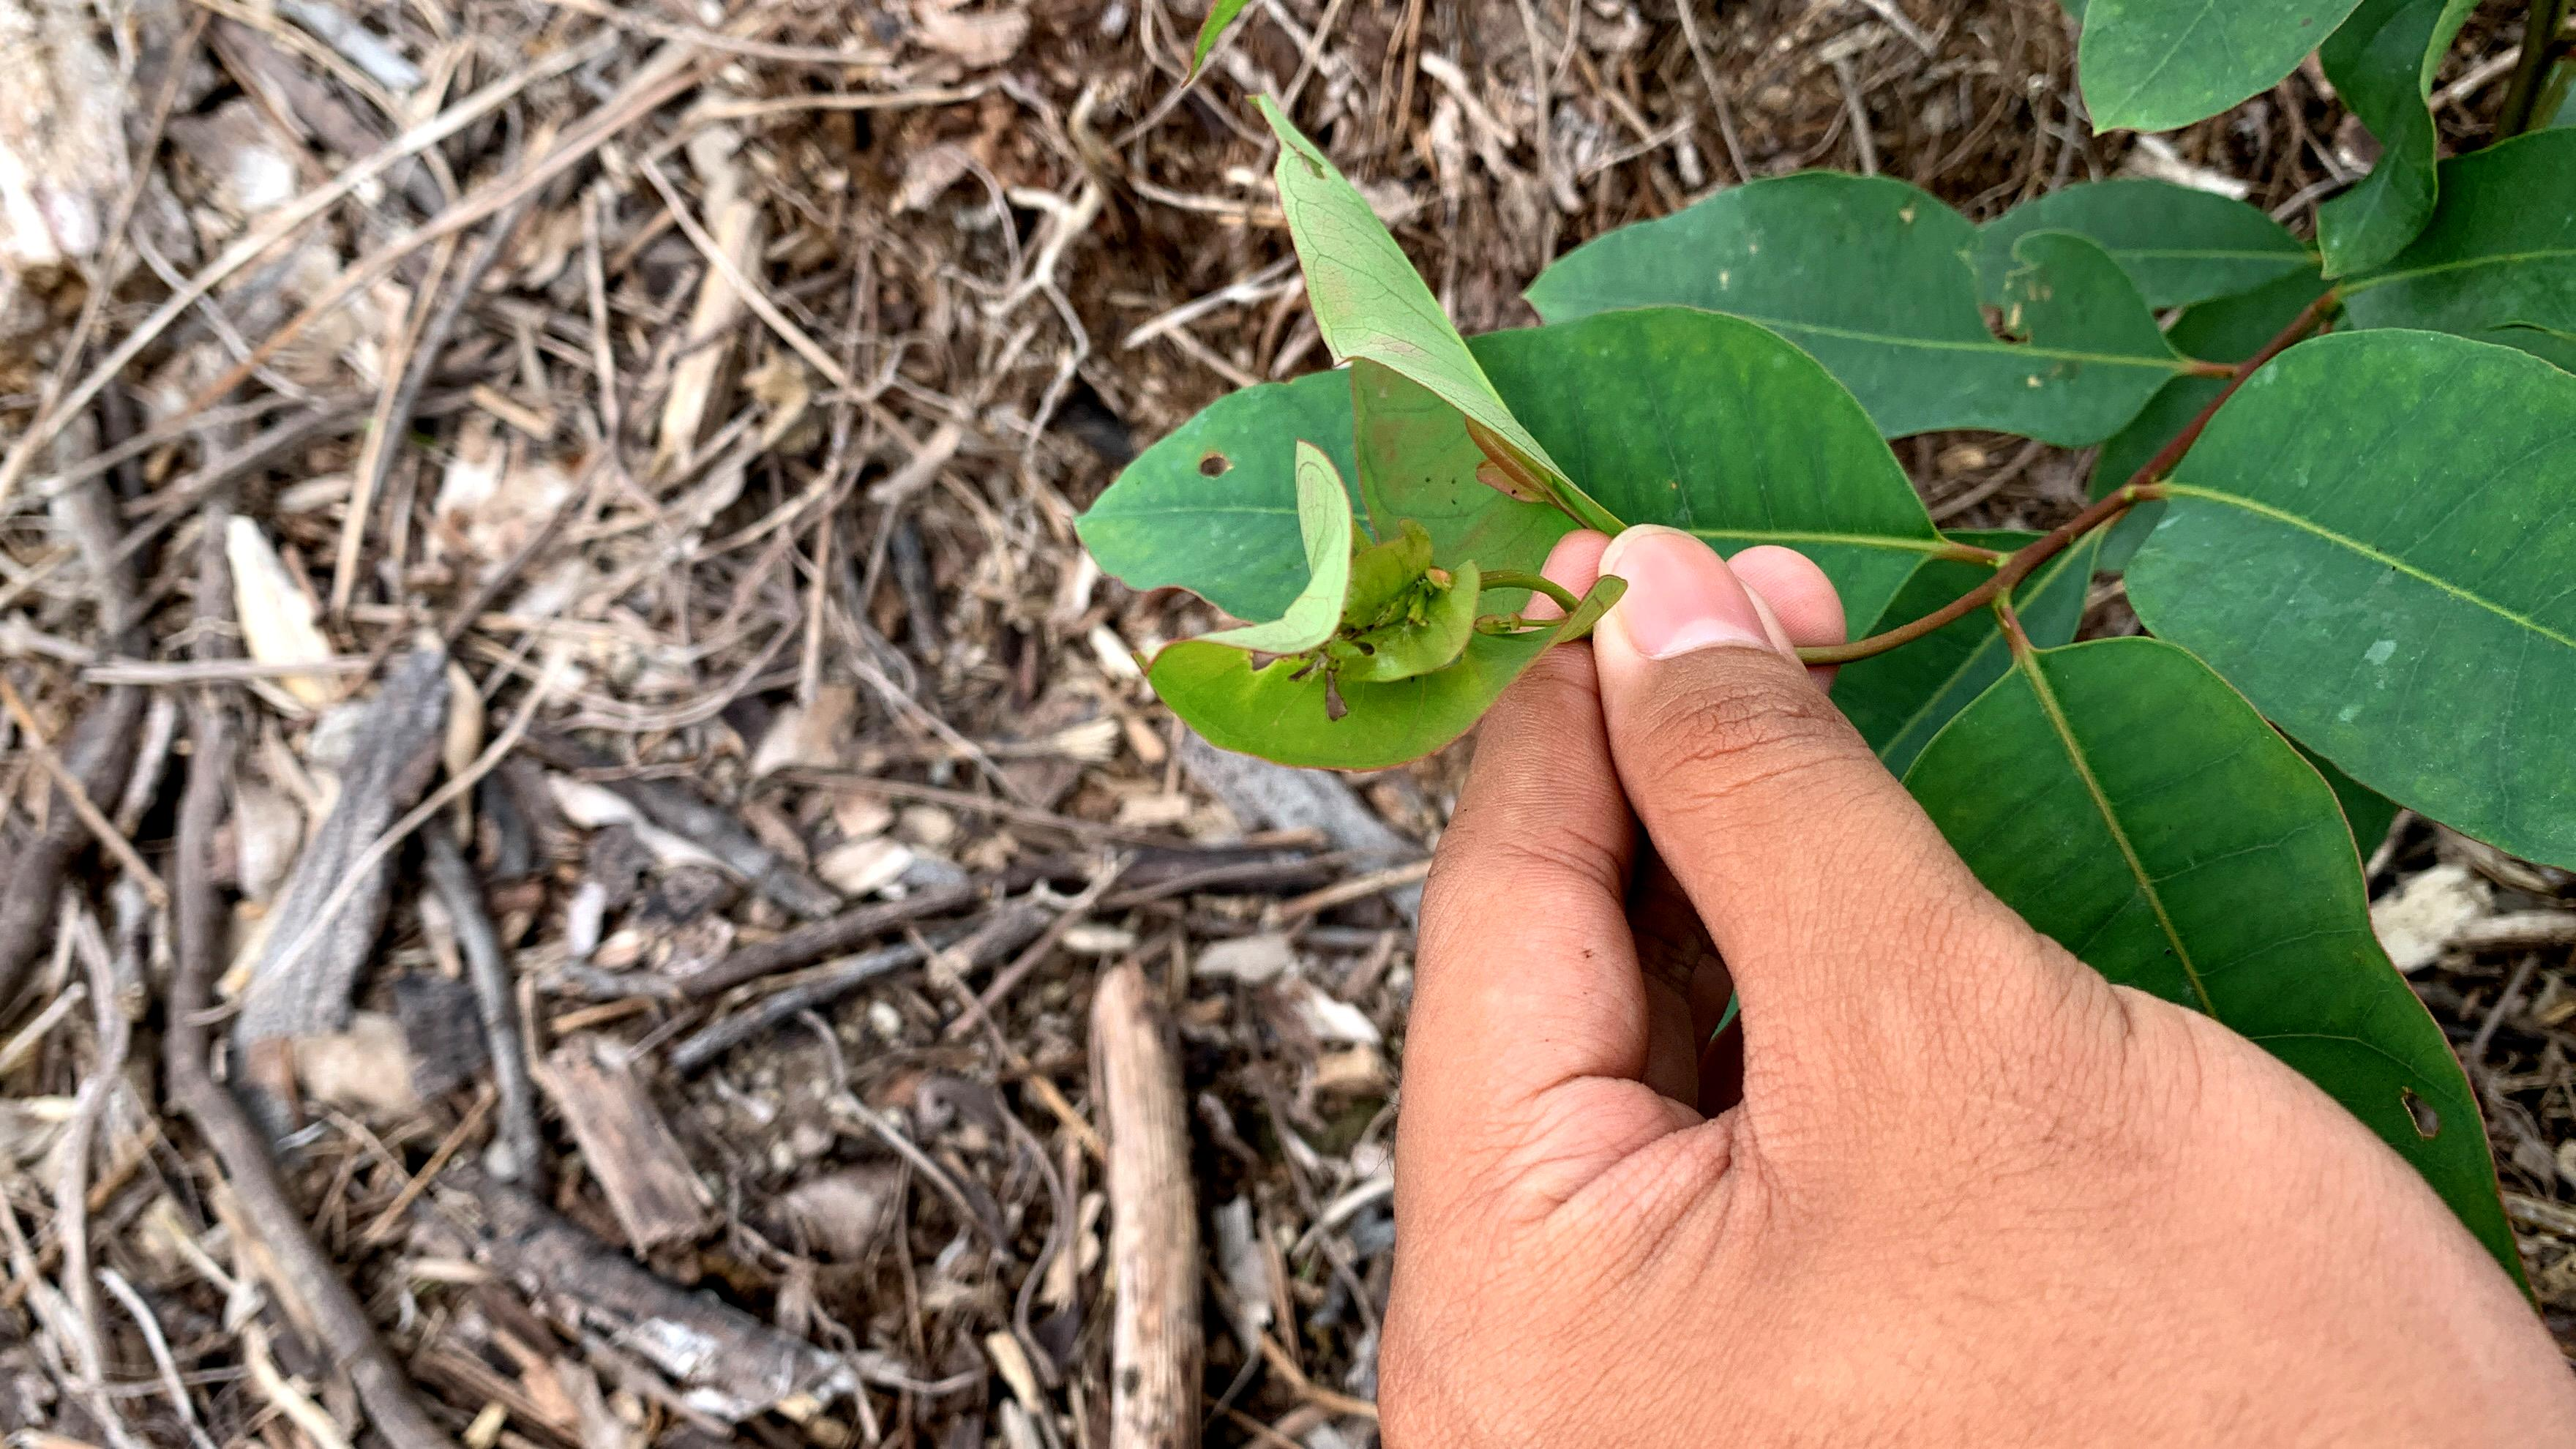Leaf Roller - Leaf: (1172, 517, 1586, 749)
